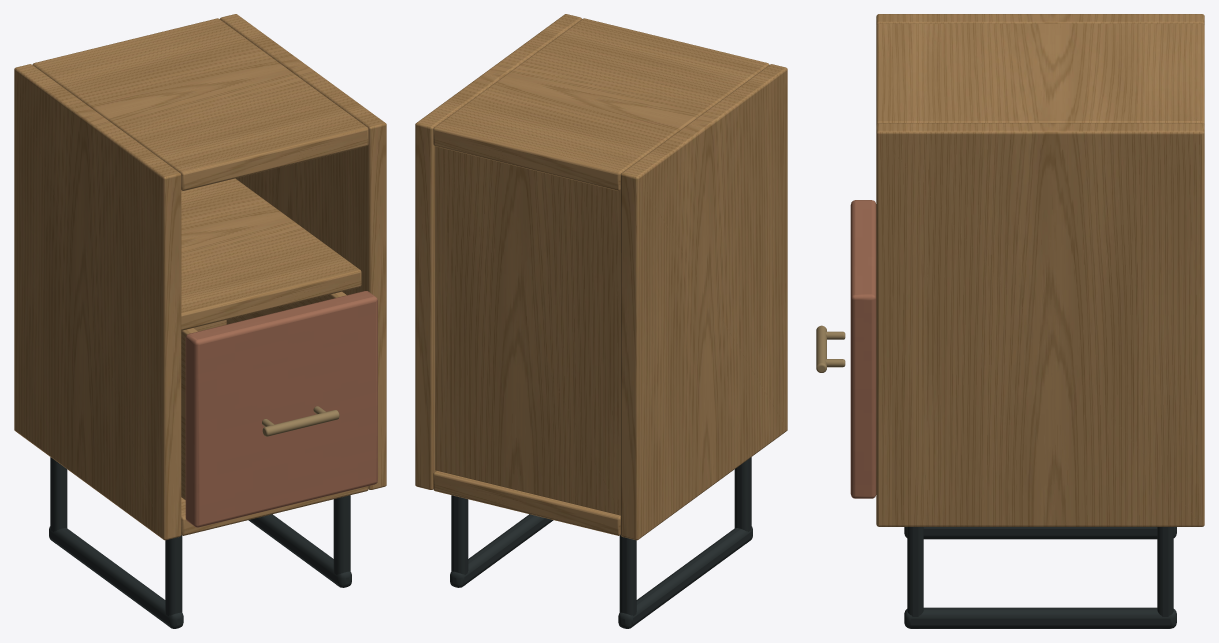
File: slit-bedside-cabinet.glb
The picture shows the model from 3 angles, left to right: view 1: azimuth 30°, elevation 25°; view 2: azimuth 150°, elevation 25°; view 3: azimuth 270°, elevation 25°; orthographic projection. The views are drawn at different scales.
Visible parts, largest first — view 1: Case | side, Lower drawer | front, Case | horizontal panel.001, Open cubby | floor, Case | side.001, Steel | floor tie, Steel | floor tie.001, Steel | slender foot, Steel | slender foot.002, Case | horizontal panel, Steel | slender foot.001, Lower drawer | drawer side (+2 smaller); view 2: Case | side, Case | inset back, Case | horizontal panel.001, Case | side.001, Case | horizontal panel, Steel | floor tie, Steel | floor tie.001, Steel | slender foot.001, Steel | slender foot.003, Steel | slender foot; view 3: Case | side.001, Case | horizontal panel.001, Lower drawer | front, Steel | floor tie.001, Case | side, Steel | floor tie, Steel | slender foot.003, Steel | slender foot.002.
Boxes of the visible parts, bbox=[...] form: Case | side: bbox=[14, 64, 181, 540]; Lower drawer | front: bbox=[185, 291, 377, 527]; Case | horizontal panel.001: bbox=[32, 18, 368, 190]; Open cubby | floor: bbox=[181, 178, 361, 330]; Case | side.001: bbox=[220, 14, 386, 489]; Steel | floor tie: bbox=[49, 526, 183, 628]; Steel | floor tie.001: bbox=[248, 514, 351, 587]; Steel | slender foot: bbox=[165, 535, 182, 626]; Steel | slender foot.002: bbox=[333, 495, 350, 585]; Case | horizontal panel: bbox=[181, 486, 368, 535]; Steel | slender foot.001: bbox=[50, 457, 67, 543]; Lower drawer | drawer side: bbox=[181, 328, 197, 500]; Case | side: bbox=[620, 64, 787, 540]; Case | inset back: bbox=[435, 146, 620, 515]; Case | horizontal panel.001: bbox=[433, 18, 769, 190]; Case | side.001: bbox=[415, 14, 581, 489]; Case | horizontal panel: bbox=[433, 471, 620, 535]; Steel | floor tie: bbox=[618, 526, 752, 628]; Steel | floor tie.001: bbox=[450, 514, 553, 587]; Steel | slender foot.001: bbox=[619, 535, 636, 626]; Steel | slender foot.003: bbox=[451, 495, 468, 585]; Steel | slender foot: bbox=[734, 457, 751, 543]; Case | side.001: bbox=[876, 123, 1204, 526]; Case | horizontal panel.001: bbox=[876, 23, 1204, 124]; Lower drawer | front: bbox=[850, 200, 876, 498]; Steel | floor tie.001: bbox=[904, 607, 1176, 628]; Case | side: bbox=[876, 14, 1204, 25]; Steel | floor tie: bbox=[904, 527, 1176, 539]; Steel | slender foot.003: bbox=[1157, 527, 1173, 628]; Steel | slender foot.002: bbox=[907, 527, 923, 628].
Size of the model in its own units: 0.308 by 0.617 by 0.426.
4 materials, 2 textured.
